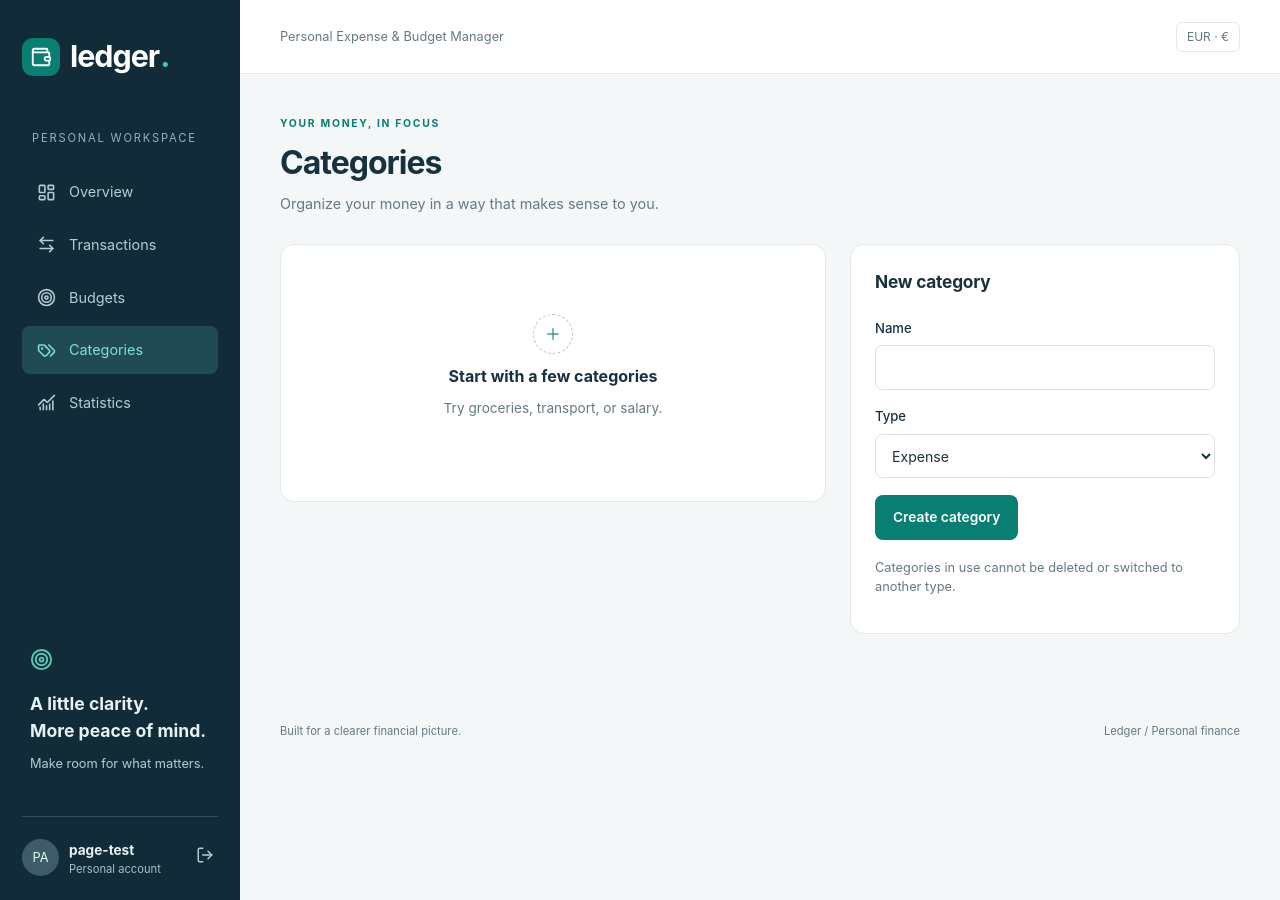
transaction and budget pages with MSW › creates and edits a category, refreshing the visible list each time
This screenshot has width=1280, height=900.
Expected: the heading "Start with a few categories" is shown, [448,366,658,386]
Type "Groceries" into the field labelled "Name" at point(1045, 368), box [875,345,1215,390]
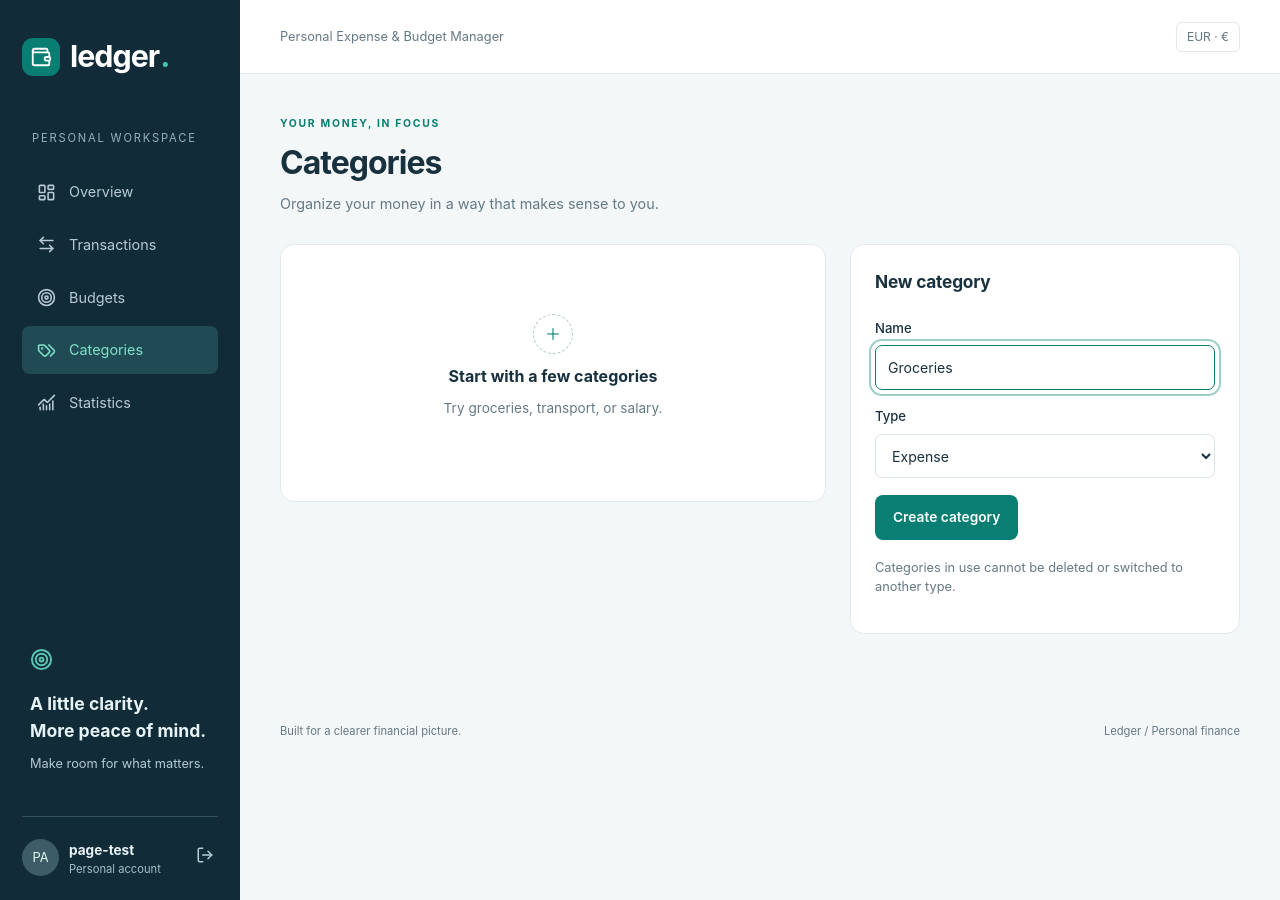
Click the button "Create category" at point(947, 517), box [875,495,1018,540]
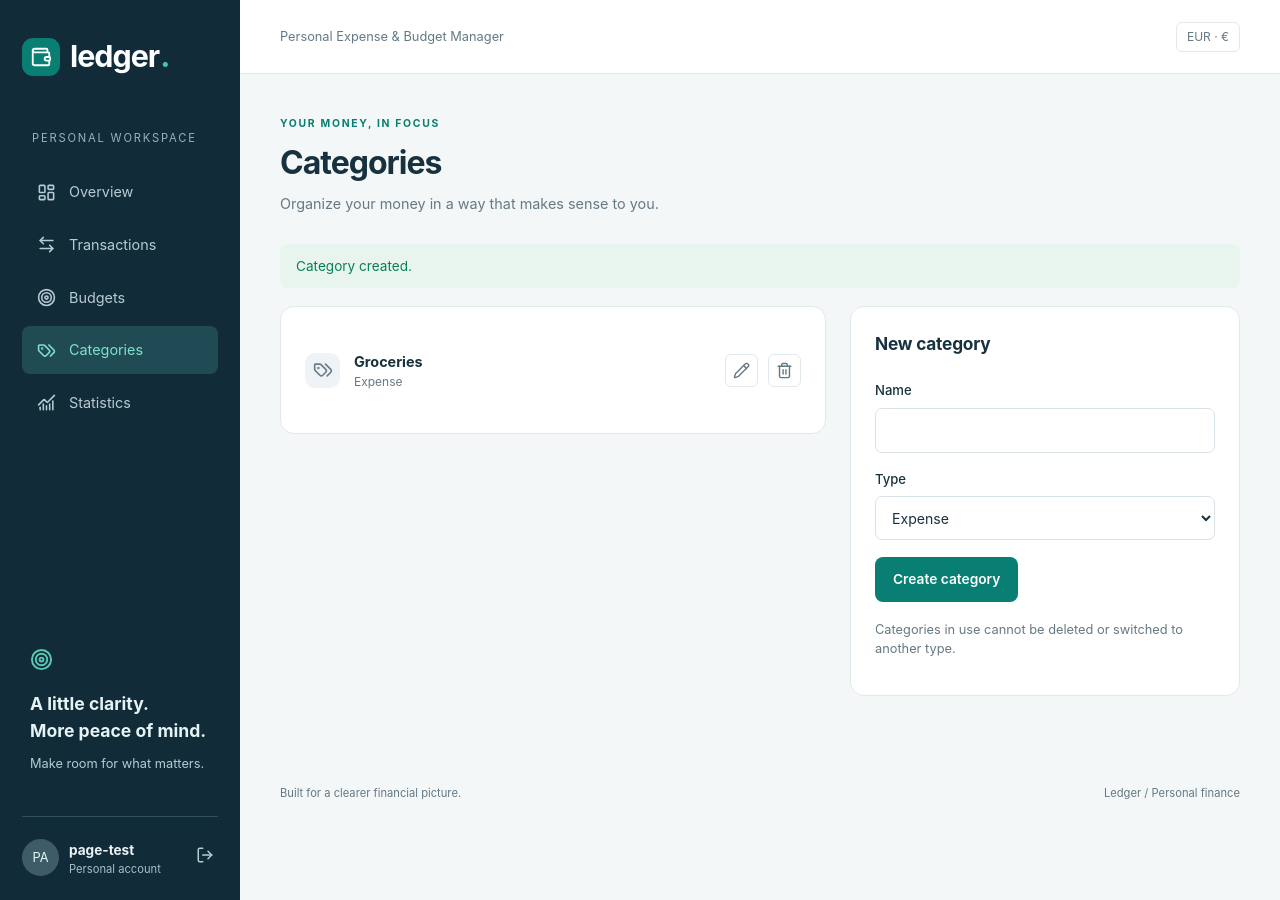
Expected: the text "Groceries" is shown, [354,353,423,370]
Expected: the message reads "Category created.", [296,258,412,274]
Click the button named "Edit Groceries" at point(742, 370), box [725,354,758,386]
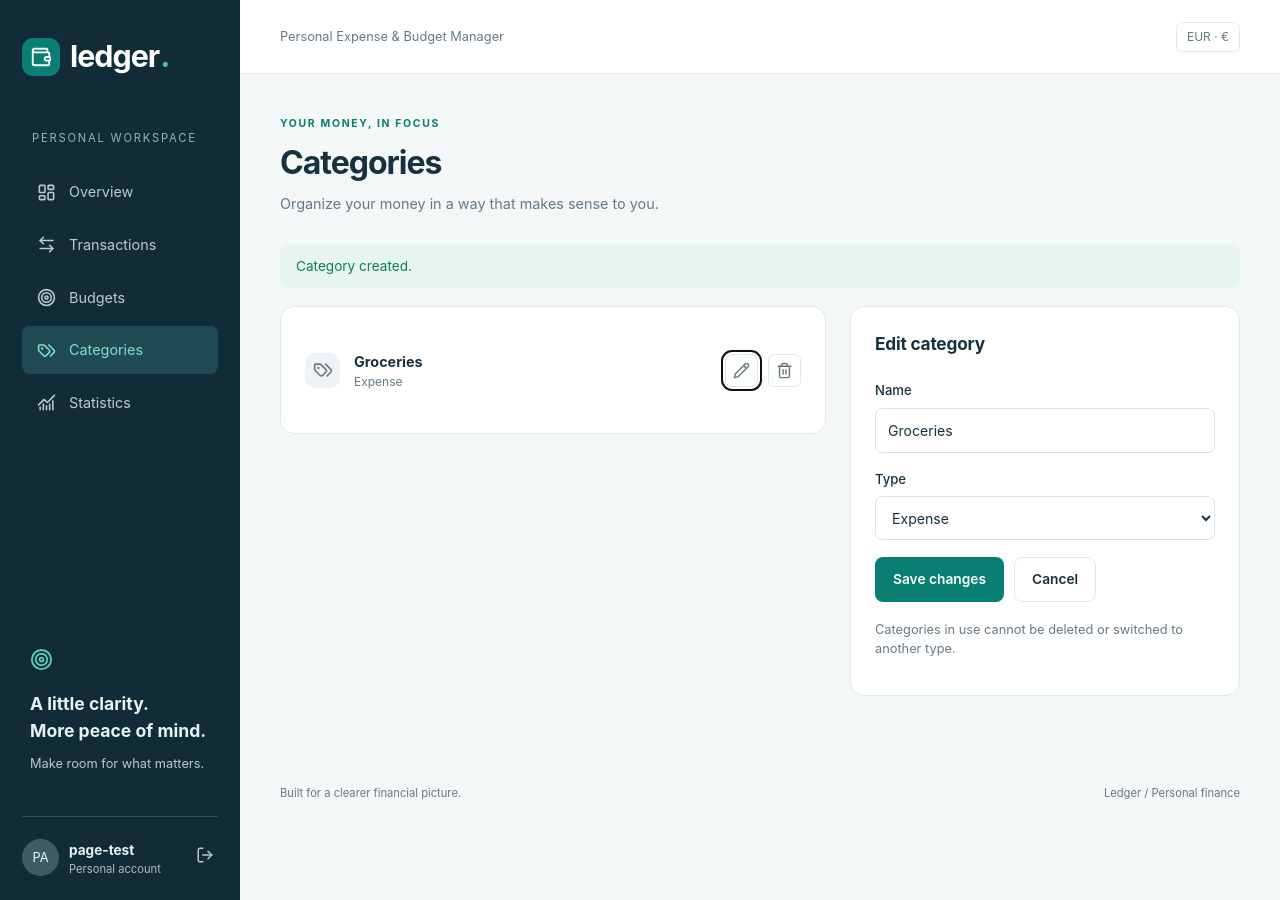
Expected: the heading "Edit category" is shown, [875,333,985,354]
Replace the text in the field labelled "Name" with "Food" at point(1045, 430), box [875,408,1215,453]
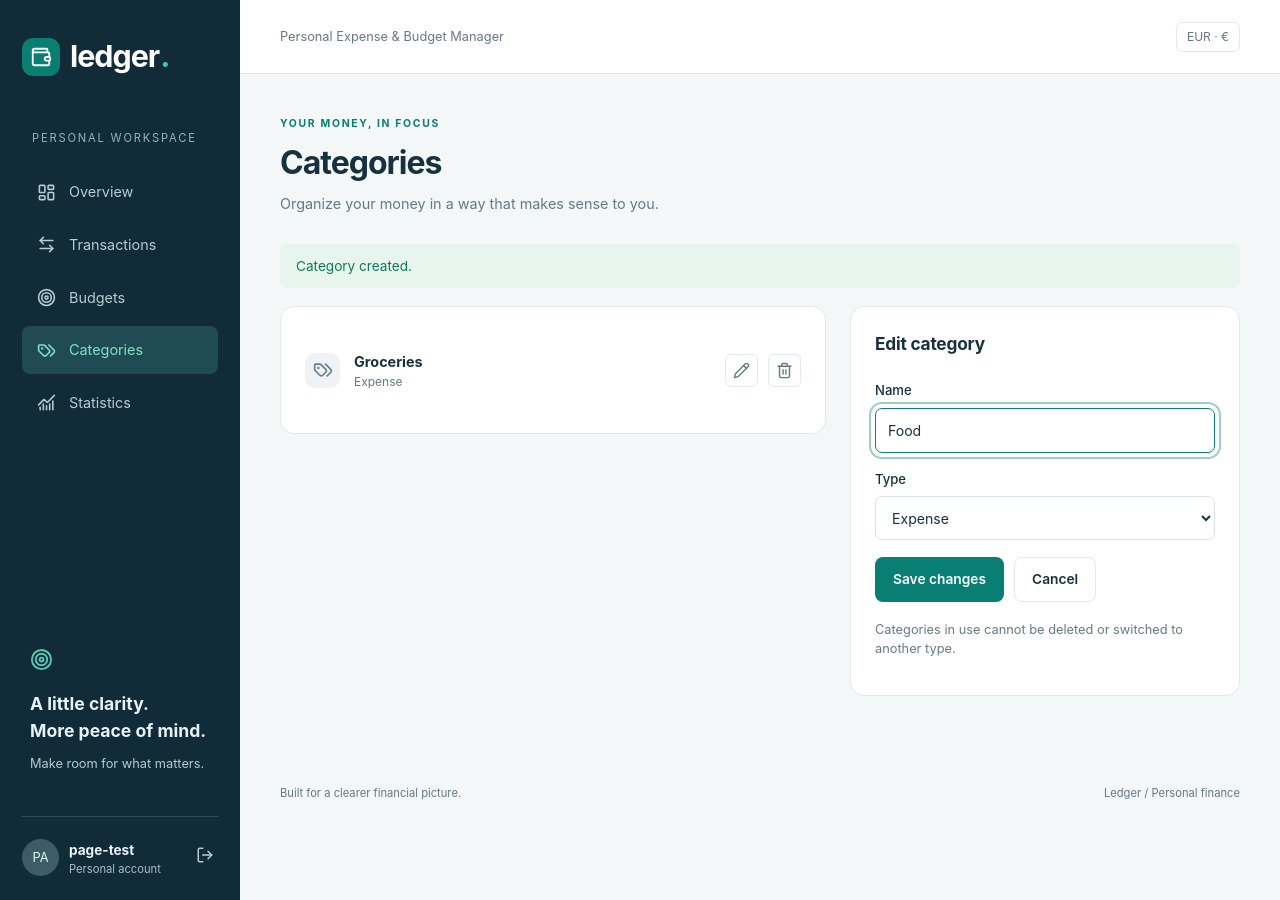
Click the button "Save changes" at point(940, 580), box [875,557,1004,602]
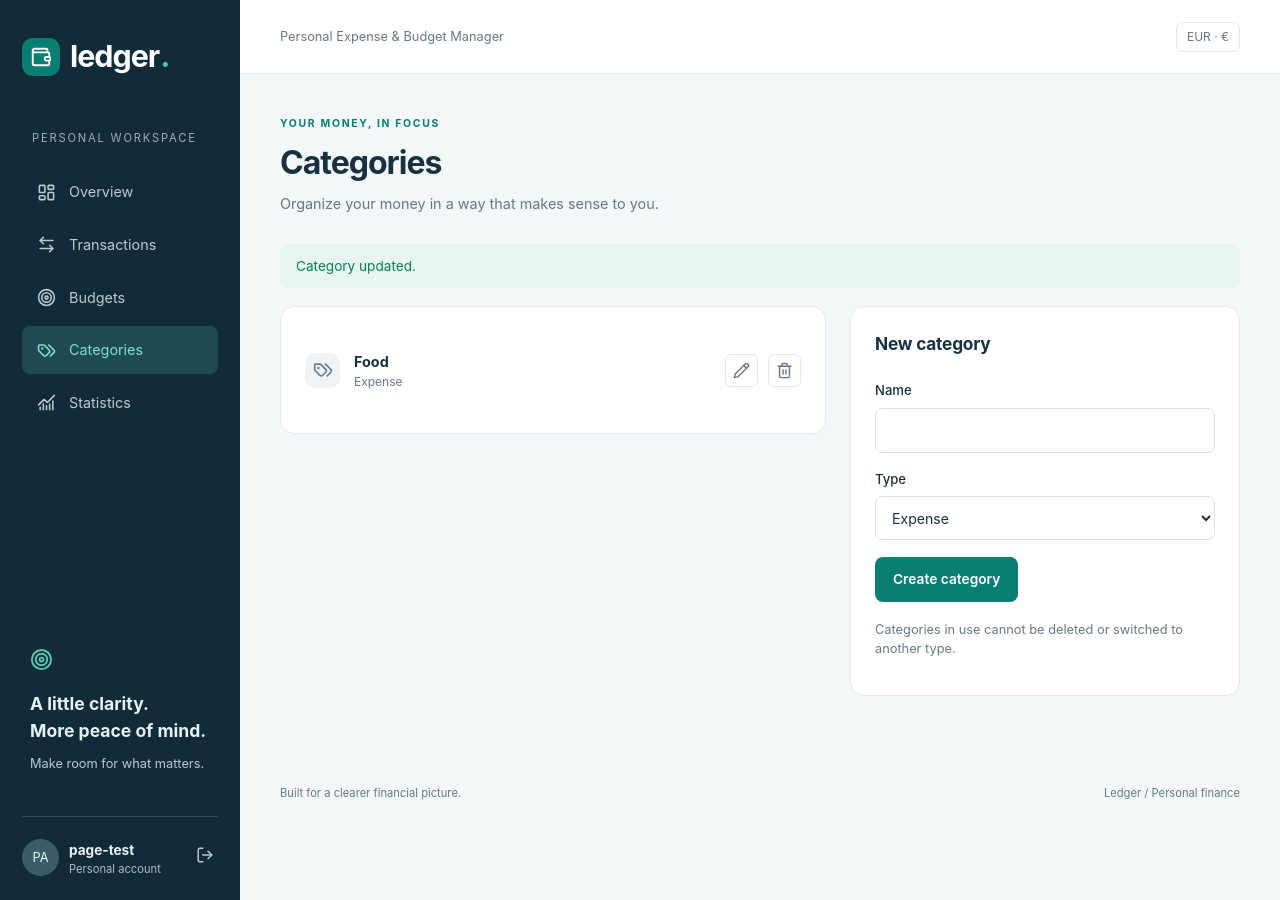
Expected: the message reads "Category updated.", [296,258,416,274]
Expected: the text "Food" is shown, [354,353,389,370]
